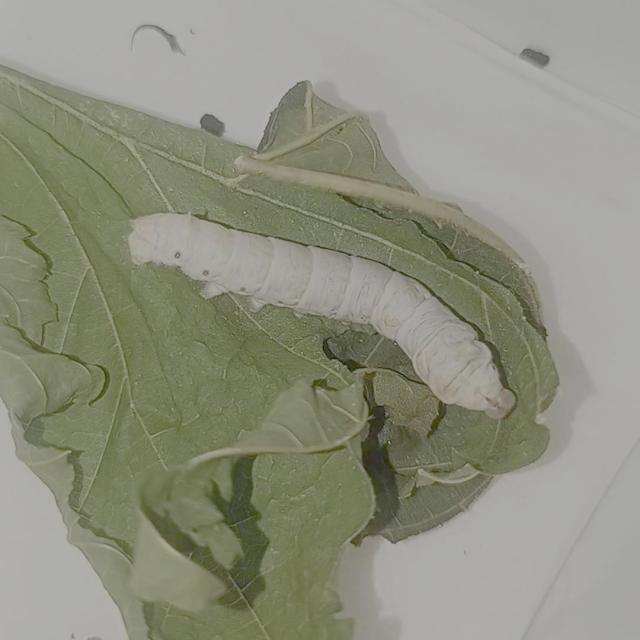Healthy: (95, 177, 531, 439)
